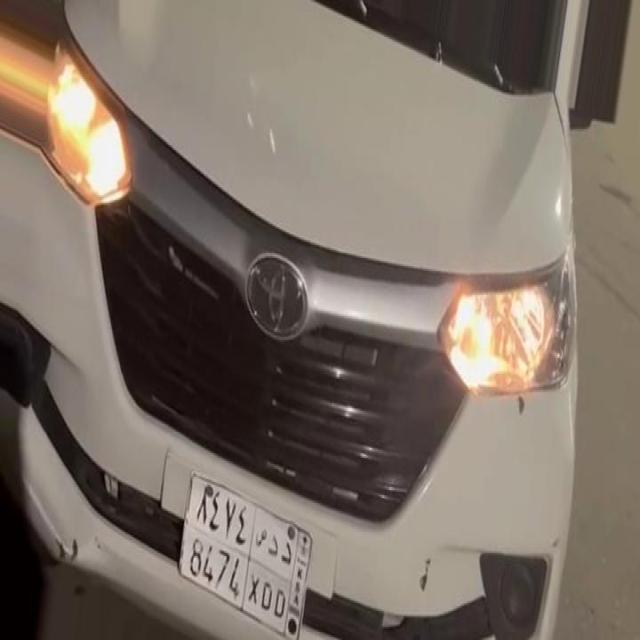Car-plate: (164, 446, 317, 640)
